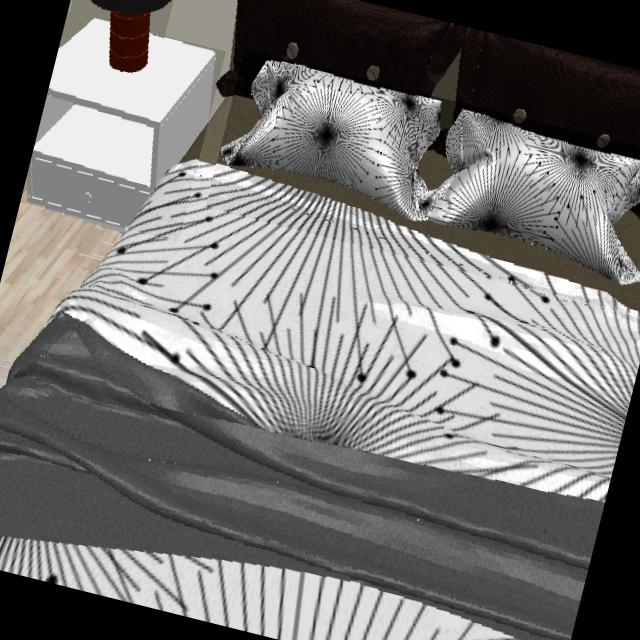bed: (0, 0, 640, 640)
lamp: (87, 0, 172, 72)
nighttable: (25, 20, 214, 228)
pillow: (217, 61, 640, 314)
